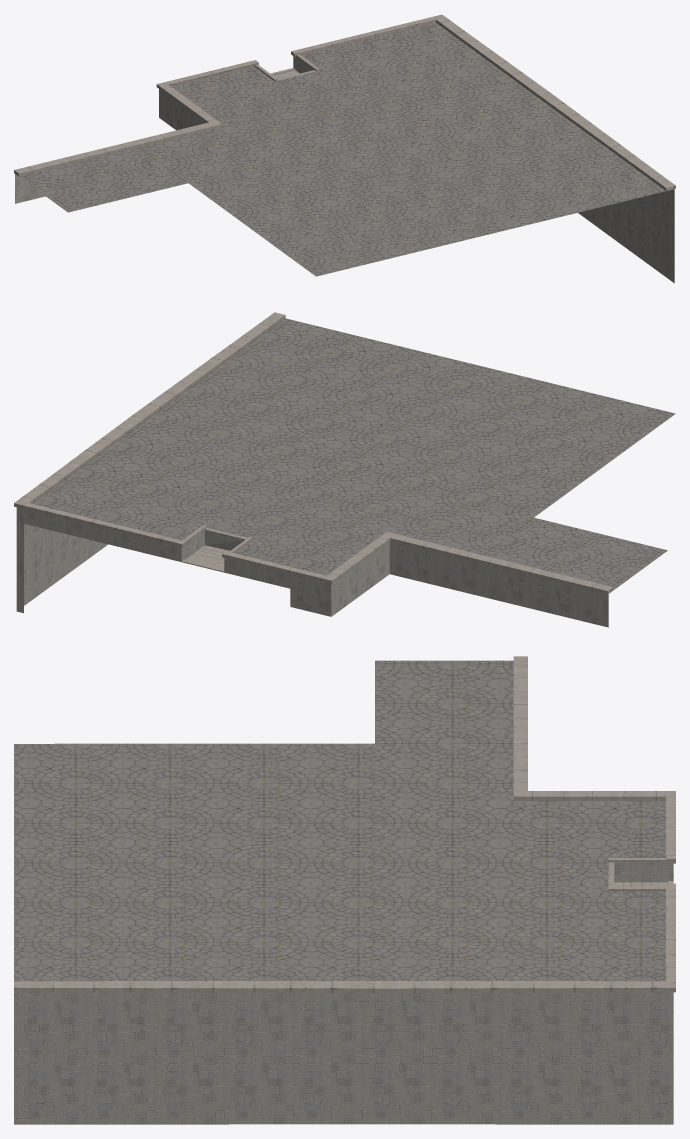
File: TownGroundTile_C.fbx
3 renders of one model, top to bottom at view 1: azimuth 30°, elevation 25°; view 2: azimuth 150°, elevation 25°; view 3: azimuth 270°, elevation 25°, orthographic. The views are drawn at different scales.
Visible parts, largest first — view 1: TownGroundTile_C; view 2: TownGroundTile_C; view 3: TownGroundTile_C.
Part boxes in pixels (<box>): TownGroundTile_C: <box>14,14,675,283</box>; TownGroundTile_C: <box>14,312,675,627</box>; TownGroundTile_C: <box>14,656,675,1124</box>.
Bounding box in the file's own units: 7559 × 1462 × 6361.
Materials: 3 (3 with a texture image).
